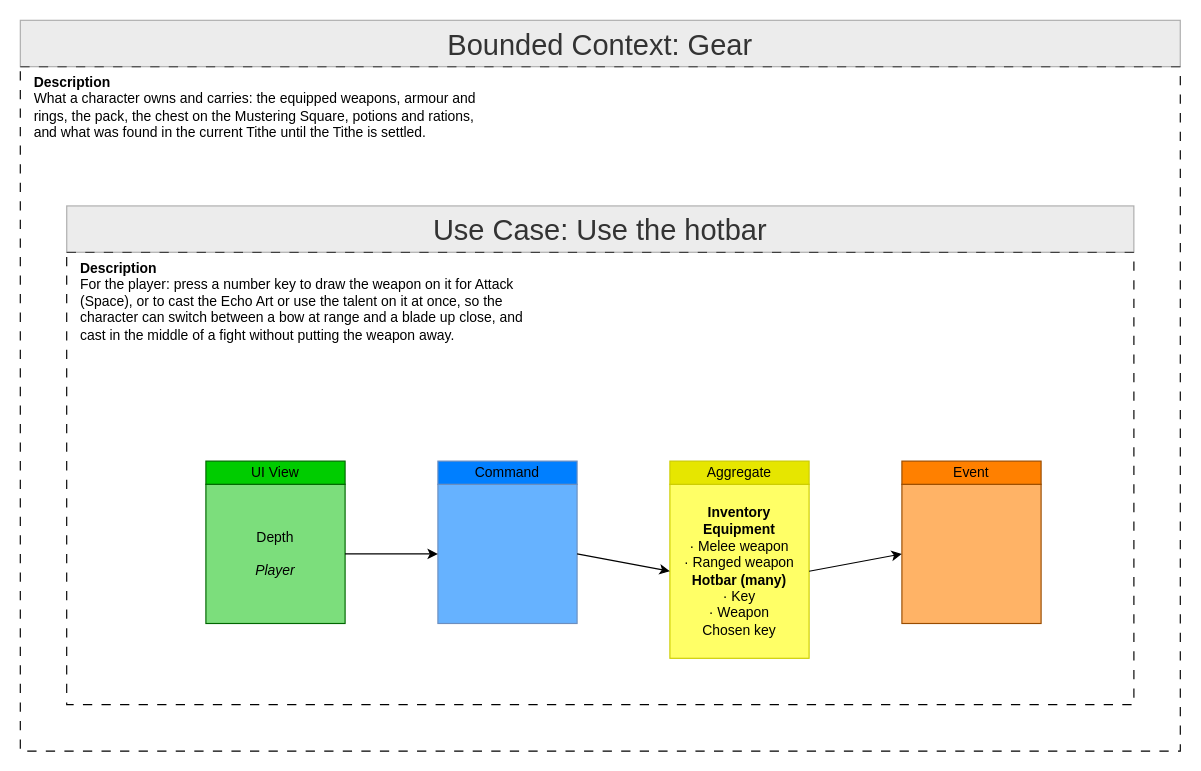
Some shapes in this 1201 by 771 pixel diagram are drawn without their labels. The centre of each missing label's shape, as x and y in pixels:
"Choose hotbar key Key" goes at (507,553).
"Hotbar key chosen" goes at (971,553).
